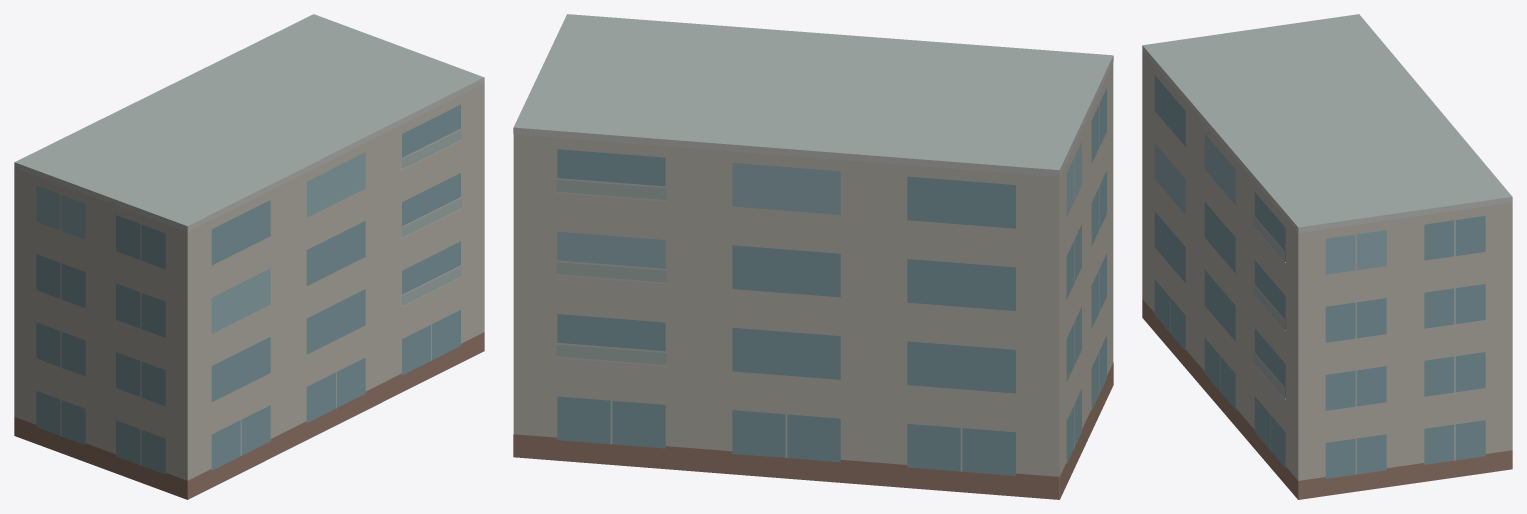
Rendered from survey-upis-32767615.glb.
3 renders of one model, left to right at view 1: azimuth 30°, elevation 25°; view 2: azimuth 150°, elevation 25°; view 3: azimuth 270°, elevation 25°, orthographic. The views are drawn at different scales.
Parts seen in each view (by area): view 1: survey-upis-32767615.tmp; view 2: survey-upis-32767615.tmp; view 3: survey-upis-32767615.tmp.
Part boxes in pixels (x1,y1,x2,y2): survey-upis-32767615.tmp: [14, 14, 484, 499]; survey-upis-32767615.tmp: [513, 14, 1113, 499]; survey-upis-32767615.tmp: [1142, 14, 1512, 499].
Size of the model in its own units: 19.96 by 11.87 by 14.63.
